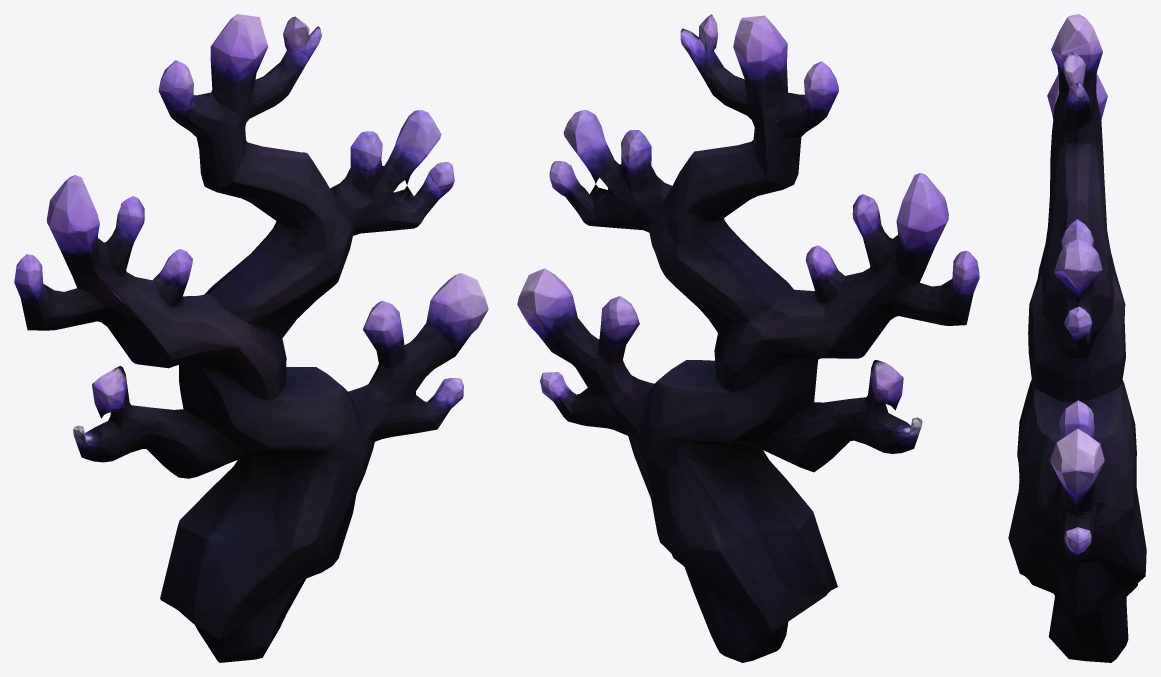
The model's file is d_abimes_corail.glb.
3 views of the same model, side by side, from view 1: azimuth 30°, elevation 25°; view 2: azimuth 150°, elevation 25°; view 3: azimuth 270°, elevation 25° (orthographic). The views are drawn at different scales.
Visible parts, largest first — view 1: geometry_0; view 2: geometry_0; view 3: geometry_0.
Part boxes in pixels (box(x1,y1,x2,y2)): geometry_0: box(14, 14, 488, 662); geometry_0: box(517, 14, 979, 662); geometry_0: box(1008, 14, 1146, 662).
Bounding box in the file's own units: 0.7647 × 1 × 0.1976.
1 material, 1 textured.
